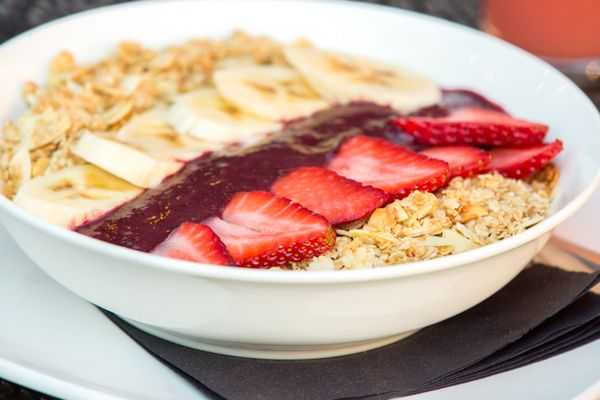sushi: (0, 1, 579, 361)
